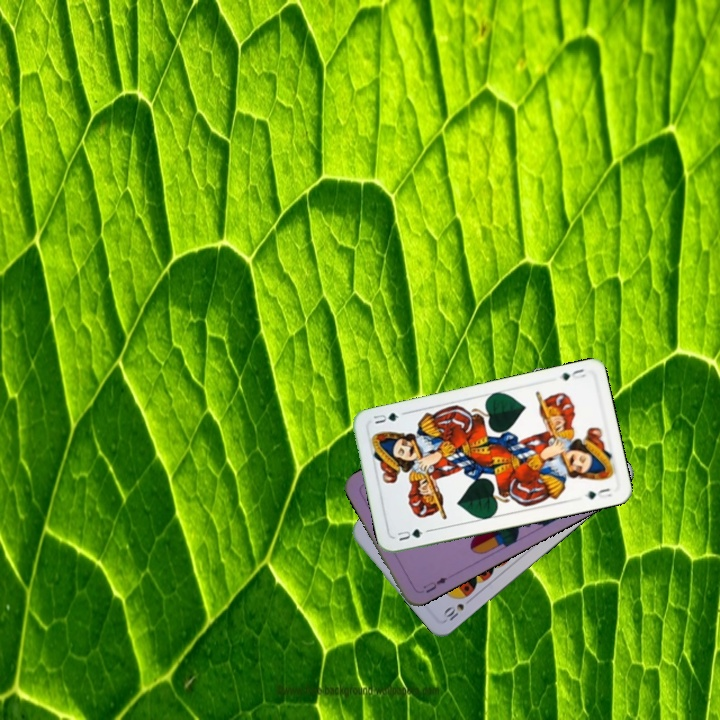EU: (419, 573, 450, 596)
GU: (393, 524, 425, 544), (555, 365, 589, 383)
S10: (439, 594, 475, 626)
